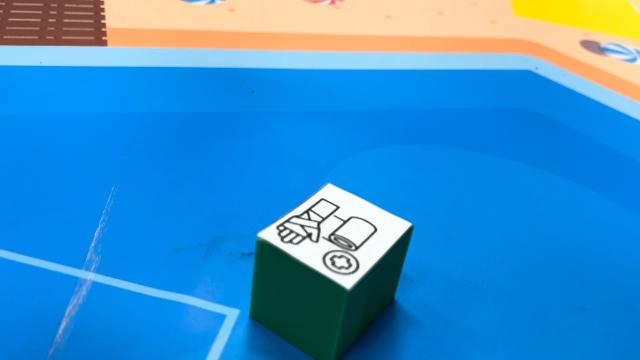bandage: (248, 182, 414, 358)
